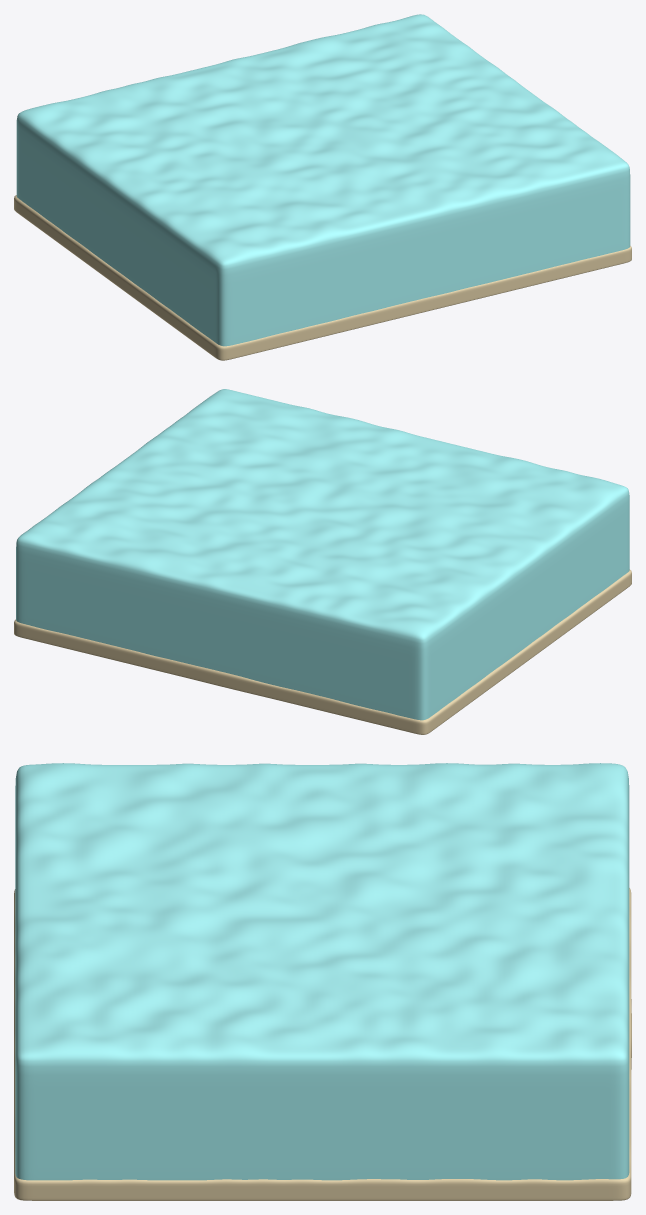
File: Water.fbx
The picture shows the model from 3 angles, top to bottom: view 1: azimuth 30°, elevation 25°; view 2: azimuth 150°, elevation 25°; view 3: azimuth 270°, elevation 25°; orthographic projection. The views are drawn at different scales.
Visible parts, largest first — view 1: Water, Sand bottom; view 2: Water, Sand bottom; view 3: Water, Sand bottom.
Boxes of the visible parts, <box> form: Water: <box>16,14,630,346</box>; Sand bottom: <box>14,195,631,360</box>; Water: <box>16,389,629,720</box>; Sand bottom: <box>14,569,631,734</box>; Water: <box>15,763,629,1180</box>; Sand bottom: <box>14,888,631,1200</box>.
Bounding box in the file's own units: 2147 × 503 × 1883.
